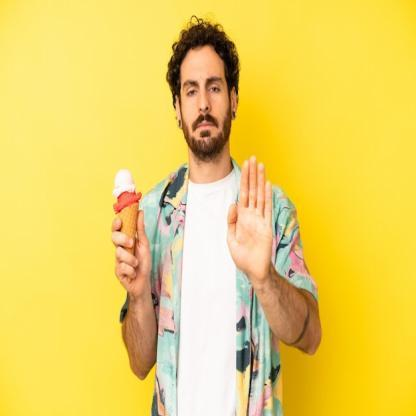stop: (219, 151, 278, 285)
